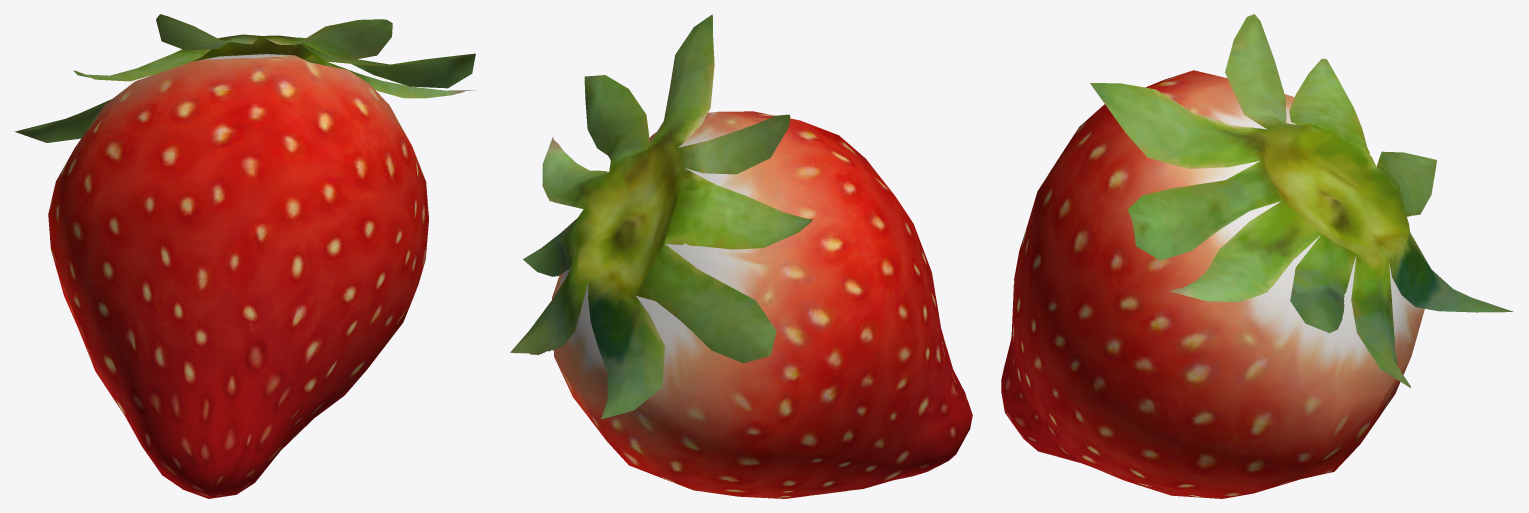
File: Strawberry.obj
3 renders of one model, left to right at view 1: azimuth 30°, elevation 25°; view 2: azimuth 150°, elevation 25°; view 3: azimuth 270°, elevation 25°, orthographic. The views are drawn at different scales.
Visible parts, largest first — view 1: strawberry_body__body_m, strawberry_body__heta_m; view 2: strawberry_body__body_m, strawberry_body__heta_m; view 3: strawberry_body__body_m, strawberry_body__heta_m.
Part boxes in pixels (box(x1,y1,x2,y2)): strawberry_body__body_m: box(48, 54, 428, 498); strawberry_body__heta_m: box(15, 14, 475, 142); strawberry_body__body_m: box(552, 111, 972, 498); strawberry_body__heta_m: box(510, 14, 812, 419); strawberry_body__body_m: box(1001, 70, 1424, 498); strawberry_body__heta_m: box(1090, 14, 1513, 387).
Bounding box in the file's own units: 42.2 × 44.33 × 44.3.
